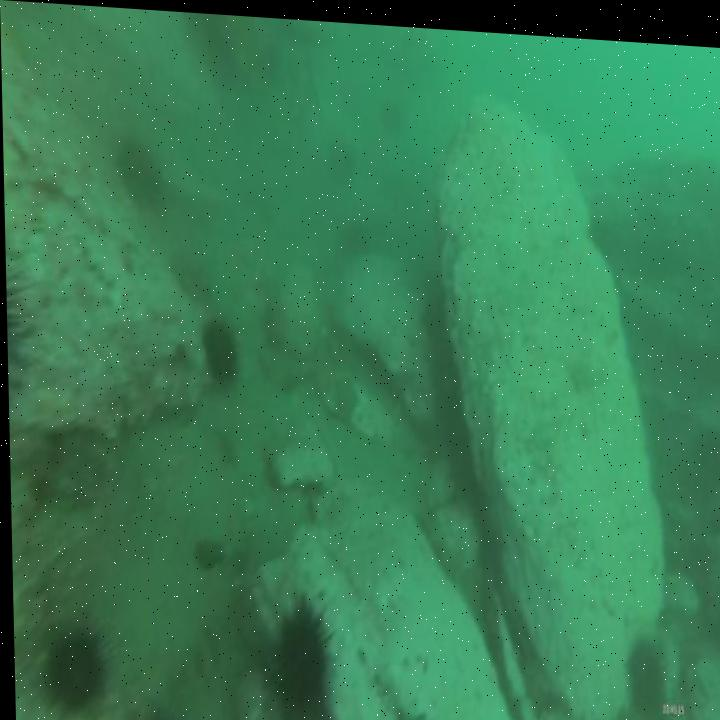echinus: (263, 591, 335, 715), (37, 610, 108, 720), (617, 620, 667, 719), (113, 131, 166, 208), (195, 309, 243, 389), (324, 129, 358, 189), (336, 209, 374, 259), (377, 89, 405, 137)
